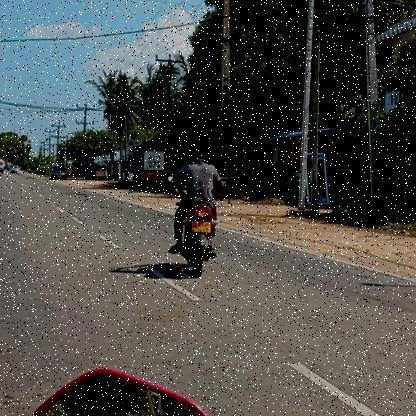motorcycle: (166, 201, 226, 282)
